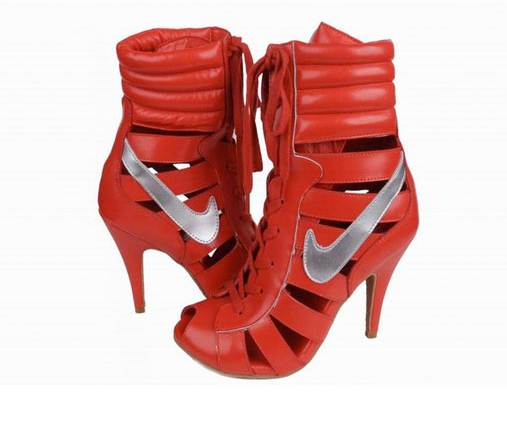nike: (301, 161, 404, 282), (121, 137, 221, 245)
